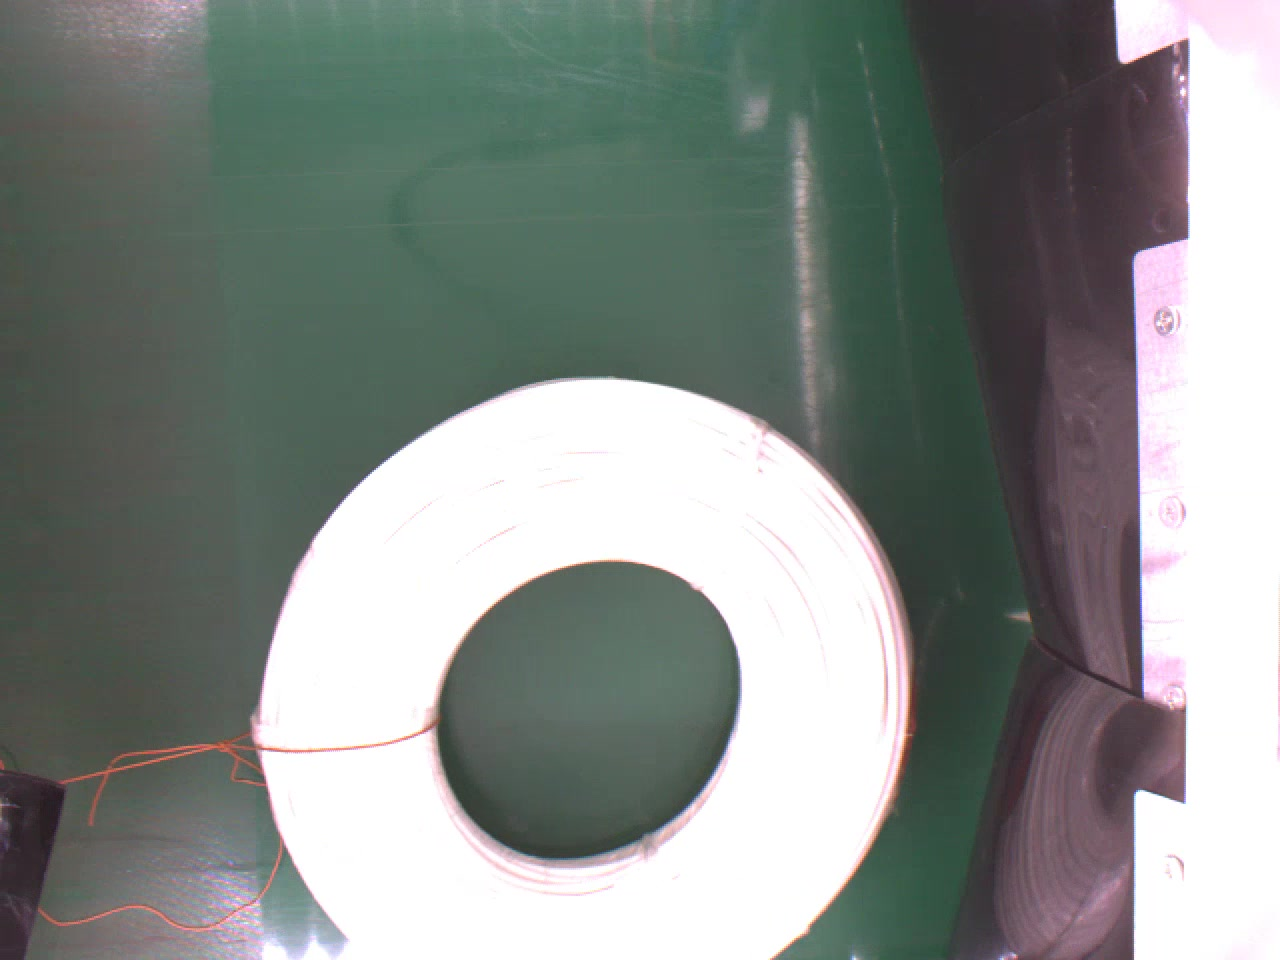white: (250, 373, 925, 960)
